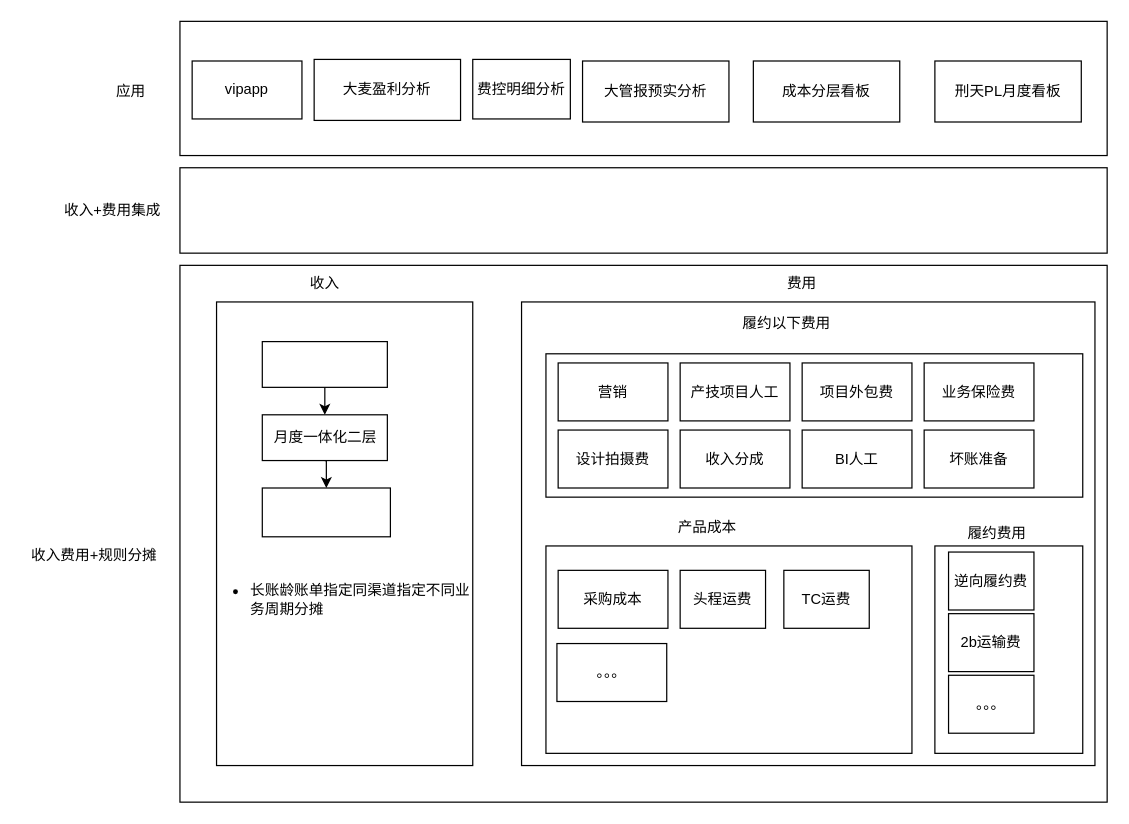
Image size: 1129x824. Some labels were removed from this diagram. Here are the shapes that lost their labels. From the top down, the box of each, then its label:
(179, 167, 1107, 253): 新增+迭代
(261, 340, 387, 387): 日度线上化一层
(261, 487, 390, 537): 月度精卫兜底三层
